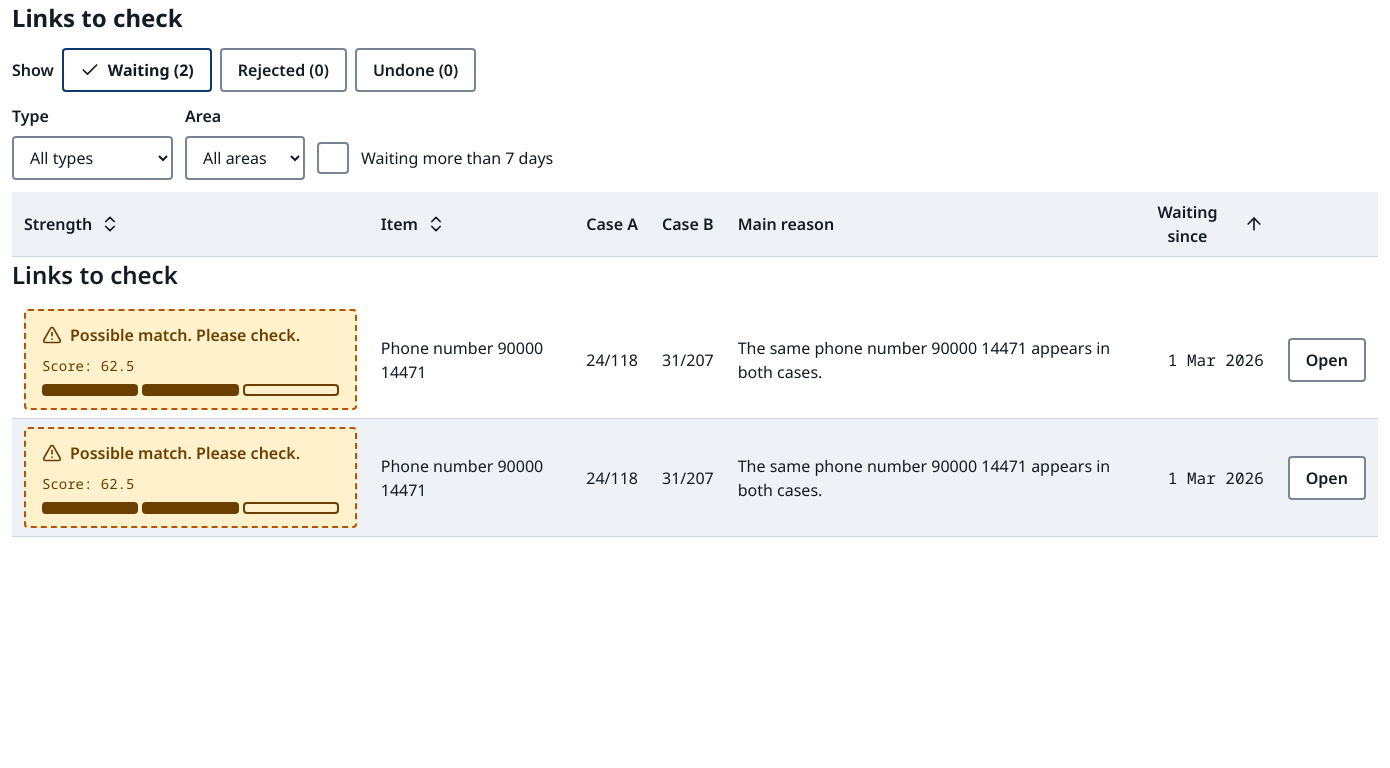
it: opening a possible match shows the explanation panel in the fixed order, detail open
Click the 1st button "Open".
click(1327, 360)  # box [1288,338,1366,382]
(page scrolled)
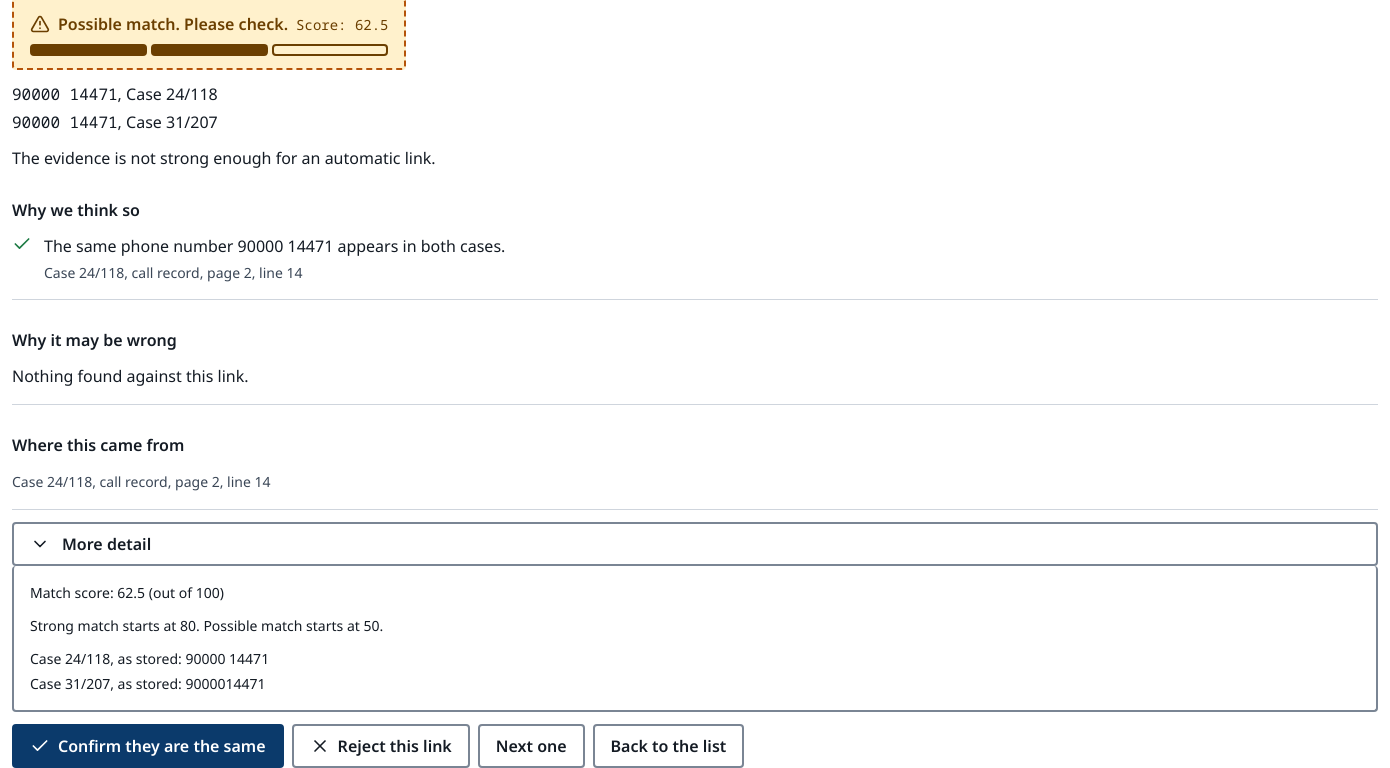
expect the text "The evidence is not strong enough for an automatic link." is shown: met, box [12,147,436,169]
expect the text "Nothing found against this link." is shown: met, box [12,365,248,387]
expect the text "Match score: 62.5 (out of 100)" is shown: met, box [30,583,224,602]
